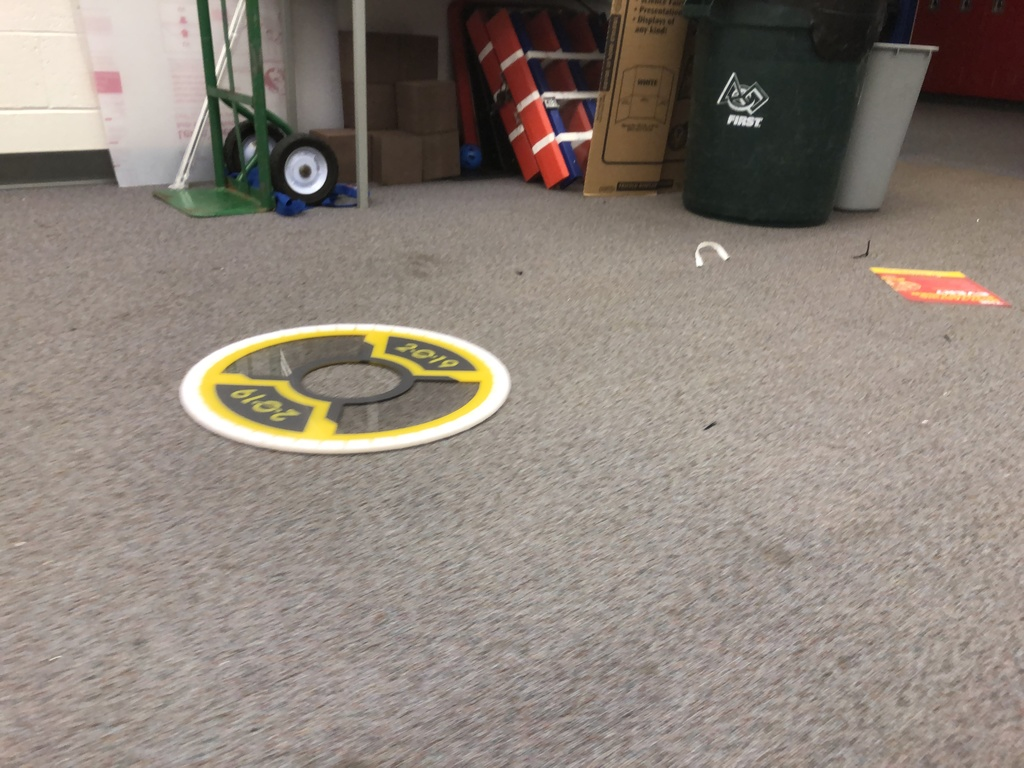hatch_panel: (169, 313, 526, 450)
